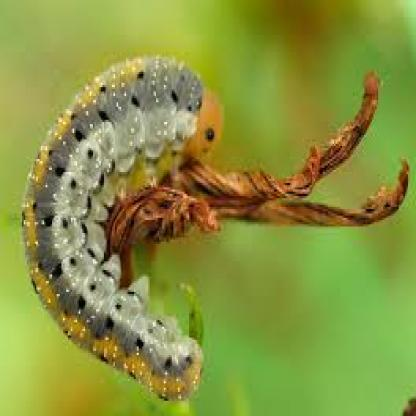sawfly: (20, 45, 220, 399)
